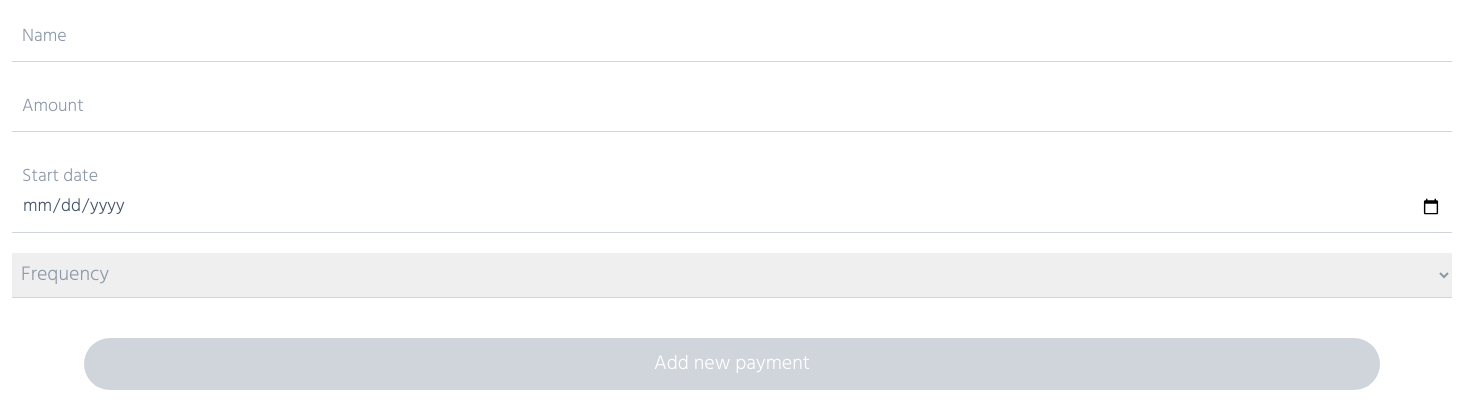
Test: PaymentForm › enables "Add new payment" button when all inputs are properly filled
This screenshot has width=1464, height=407.
In the field with placeholder "Name": (732, 37) [12,12,1452,62], type "Test name"
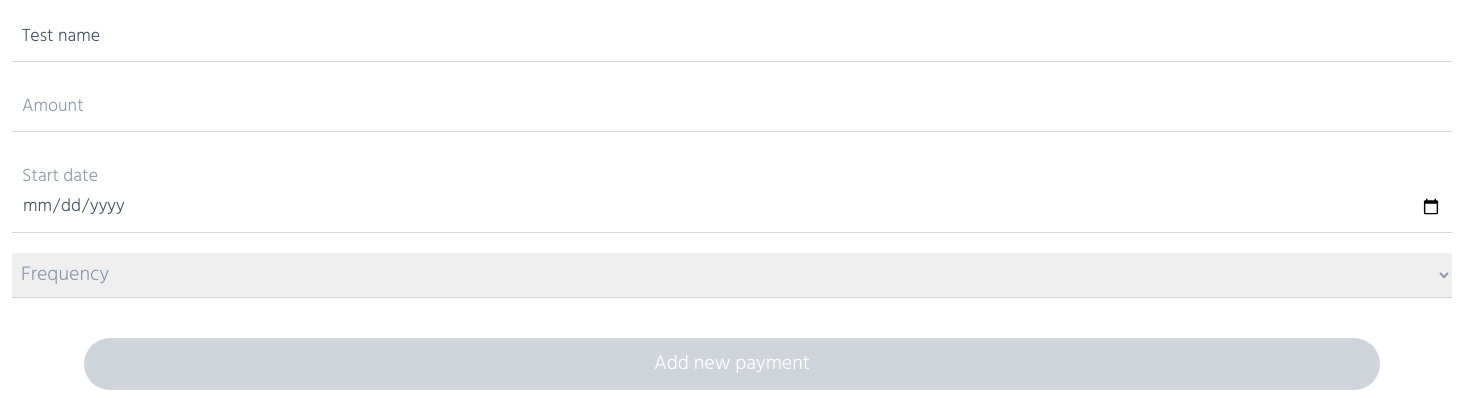
In the number field with placeholder "Amount": (732, 107) [12,82,1452,132], type "500"
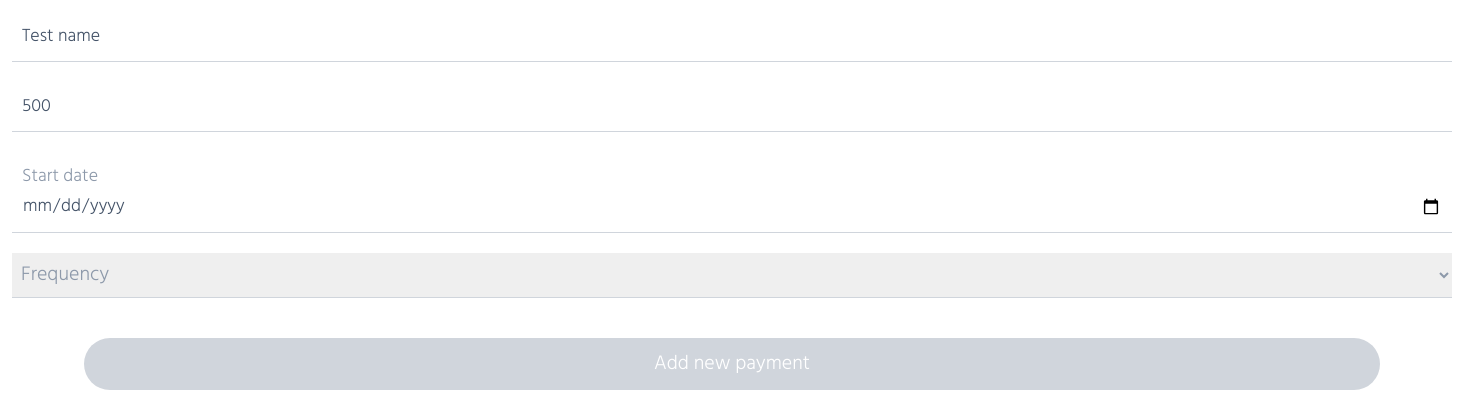
In the date field with placeholder "Start date": (732, 192) [12,152,1452,233], type "2020-10-07"
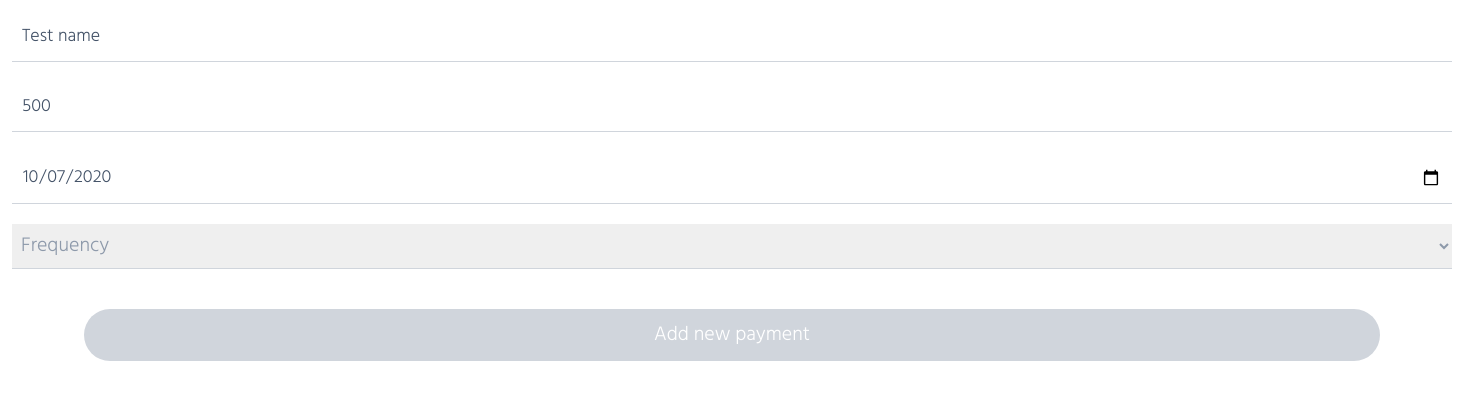
Select "Every week" in the dropdown with test id "frequency": (732, 246) [12,224,1452,269]
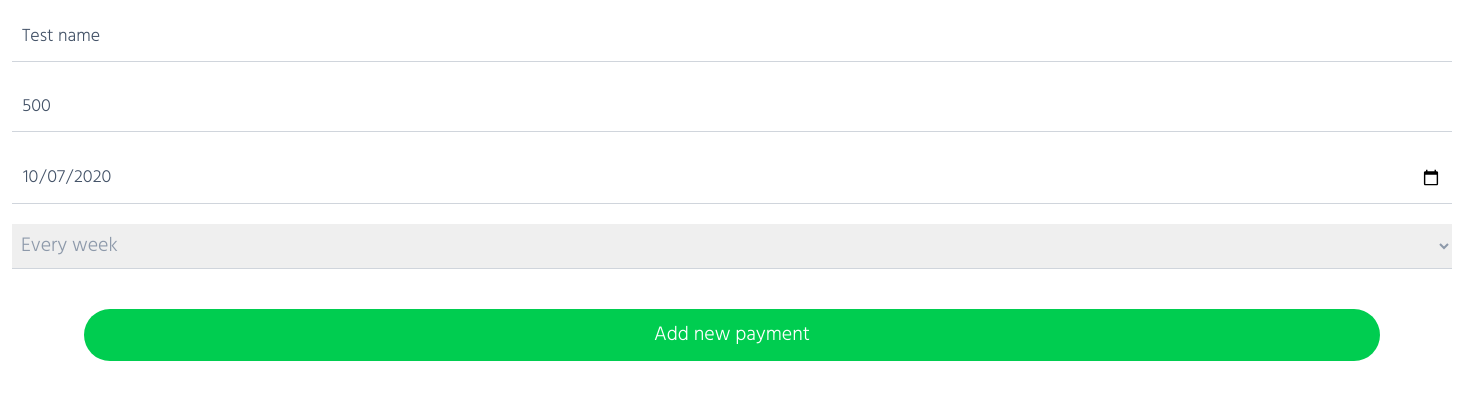
expect the button "Add new payment" is enabled: met, box [84,309,1380,361]
